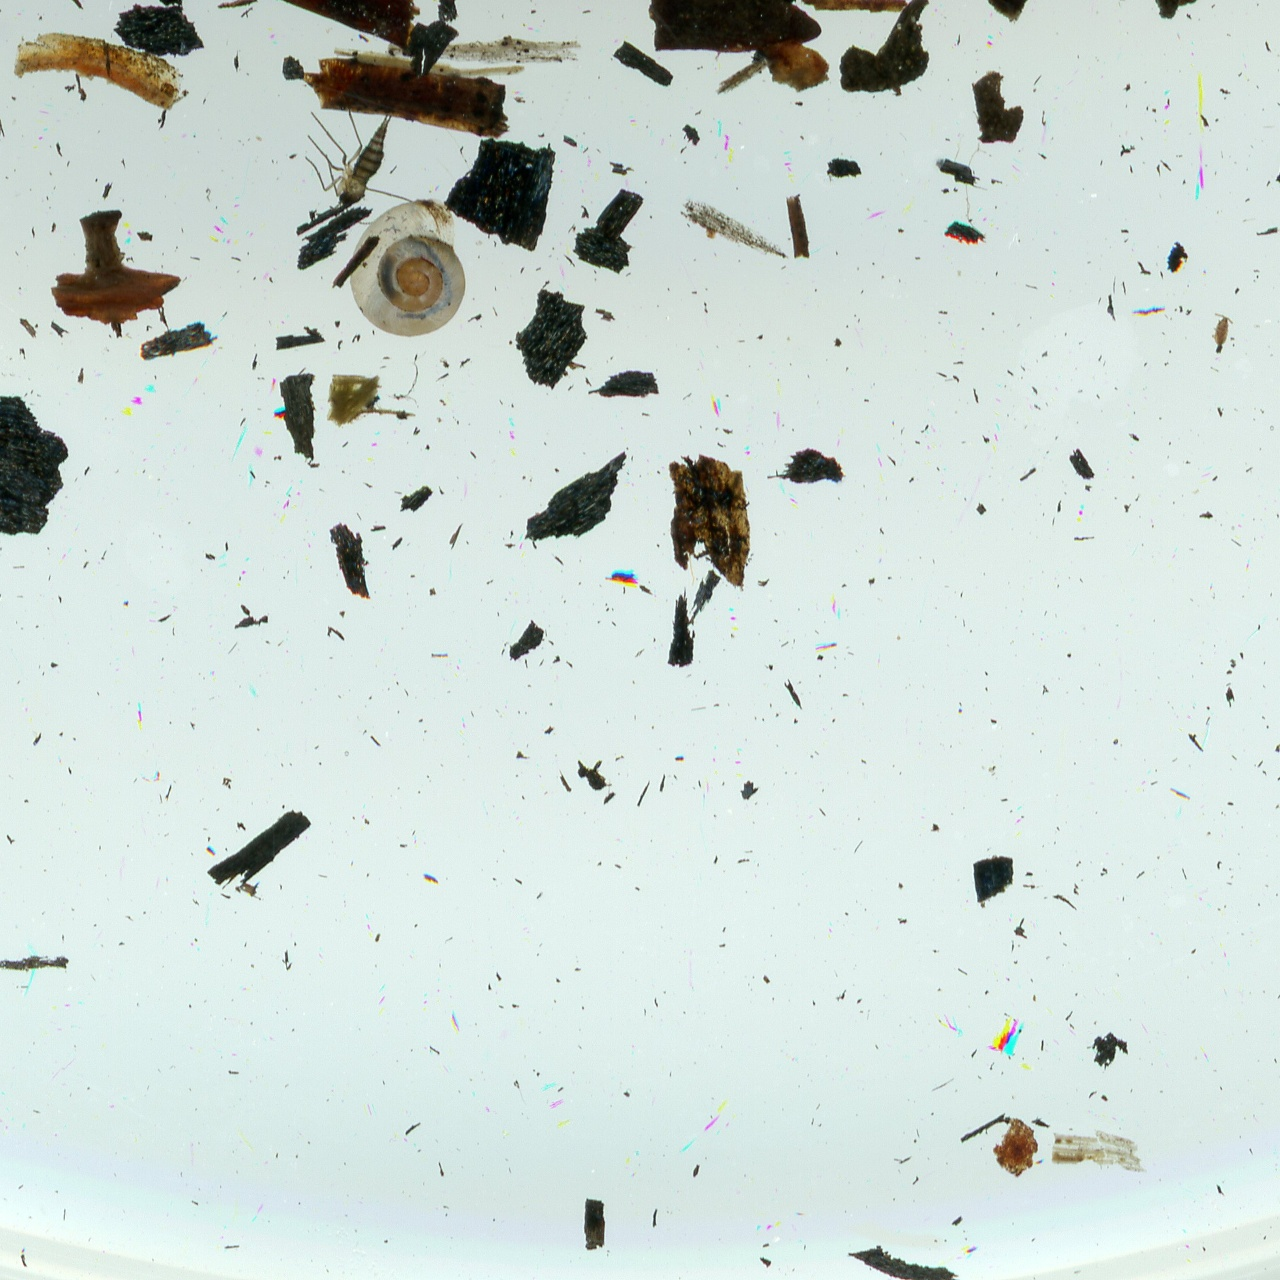arthropod: (285, 90, 440, 239), (346, 195, 471, 339)
